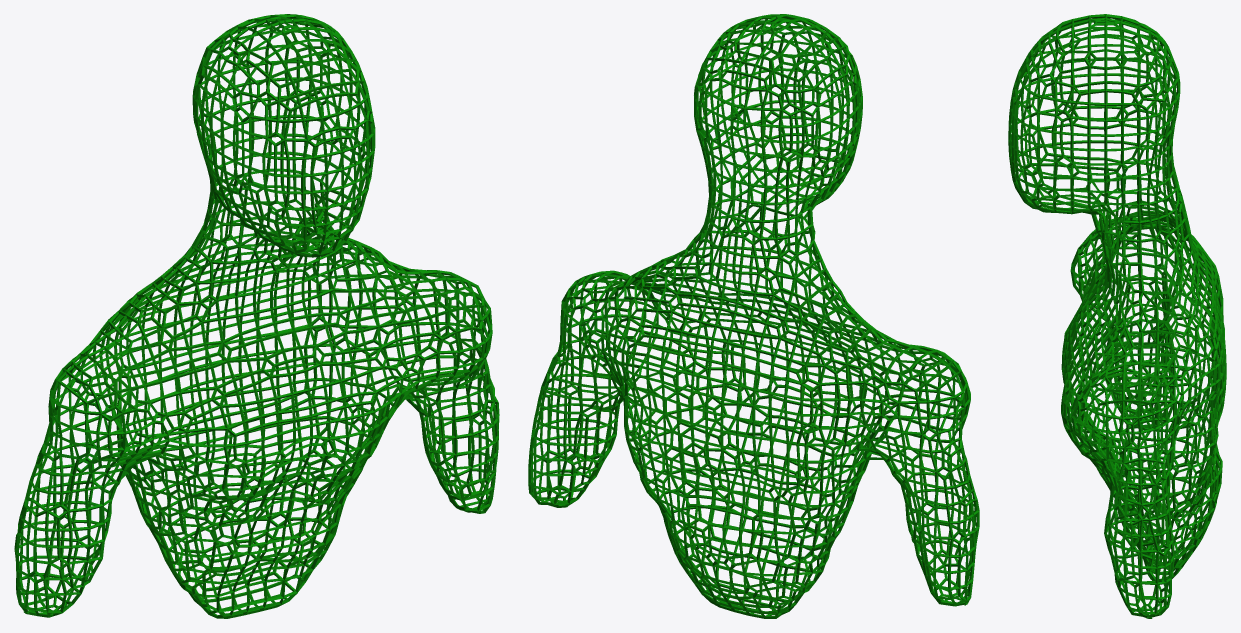
File: saiborg.glb
The picture shows the model from 3 angles, left to right: view 1: azimuth 30°, elevation 25°; view 2: azimuth 150°, elevation 25°; view 3: azimuth 270°, elevation 25°; orthographic projection. The views are drawn at different scales.
Visible parts, largest first — view 1: Sphere; view 2: Sphere; view 3: Sphere.
Part boxes in pixels (left/top/right/bottom): Sphere: left=14, top=14, right=499, bottom=618; Sphere: left=528, top=14, right=979, bottom=618; Sphere: left=1008, top=14, right=1226, bottom=618.
Size of the model in its own units: 5.5 by 6.81 by 2.45.
